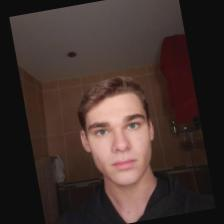Normal: (88, 98, 149, 182)
